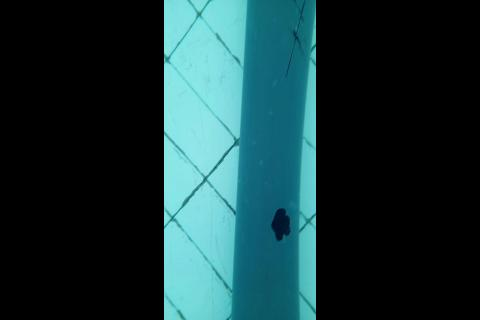kebocoran: (270, 207, 291, 243)
keretakan: (285, 0, 307, 78)
